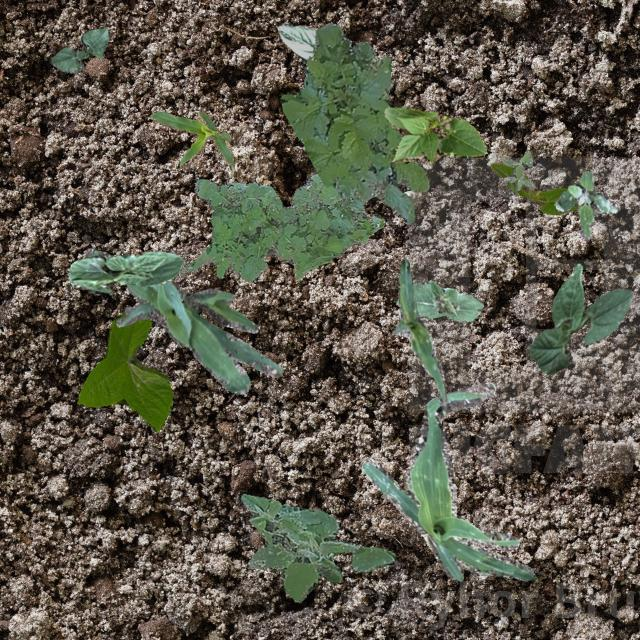crop: (360, 380, 542, 580), (84, 247, 282, 393), (528, 262, 632, 372), (76, 312, 172, 431), (392, 258, 446, 406), (382, 106, 486, 162), (148, 110, 232, 172), (68, 250, 184, 294), (490, 162, 578, 214), (410, 278, 482, 322), (50, 26, 109, 72), (276, 20, 316, 61)
weed: (280, 22, 428, 224), (182, 172, 384, 280), (240, 492, 394, 602), (554, 170, 616, 238), (502, 150, 534, 190)
